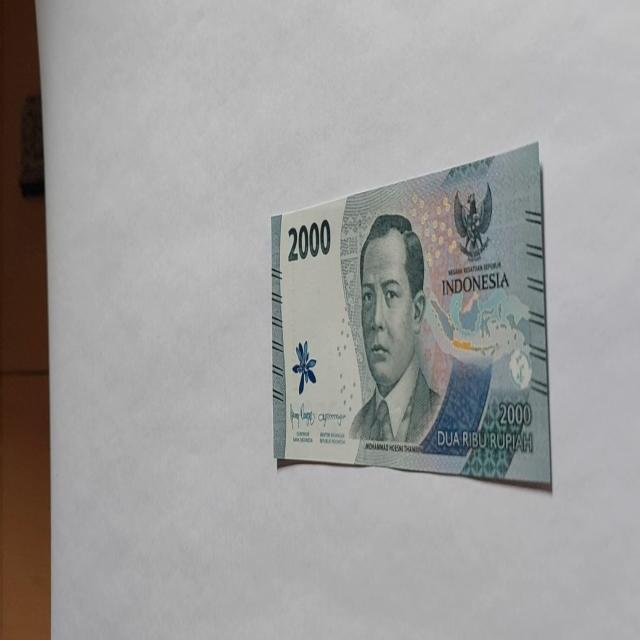dua ribu rupiah: (270, 140, 552, 488), (348, 212, 443, 449)
